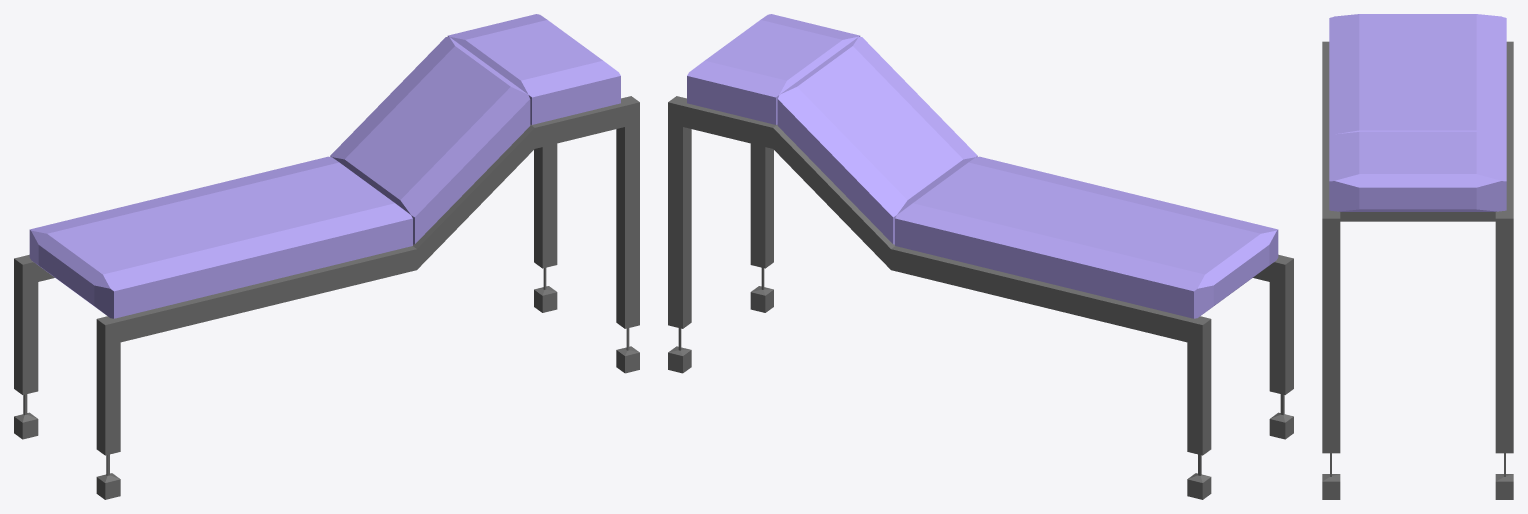
The model's file is camilla.fbx.
3 renders of one model, left to right at view 1: azimuth 30°, elevation 25°; view 2: azimuth 150°, elevation 25°; view 3: azimuth 270°, elevation 25°, orthographic. The views are drawn at different scales.
Visible parts, largest first — view 1: Cube.001, Cube; view 2: Cube.001, Cube; view 3: Cube.001, Cube.
Part boxes in pixels (x1,y1,x2,y2): Cube.001: (29, 14, 620, 318); Cube: (14, 96, 639, 499); Cube.001: (687, 14, 1278, 318); Cube: (668, 96, 1293, 499); Cube.001: (1329, 14, 1506, 211); Cube: (1322, 41, 1513, 499).
Size of the model in its own units: 3788 by 2037 by 1118.
